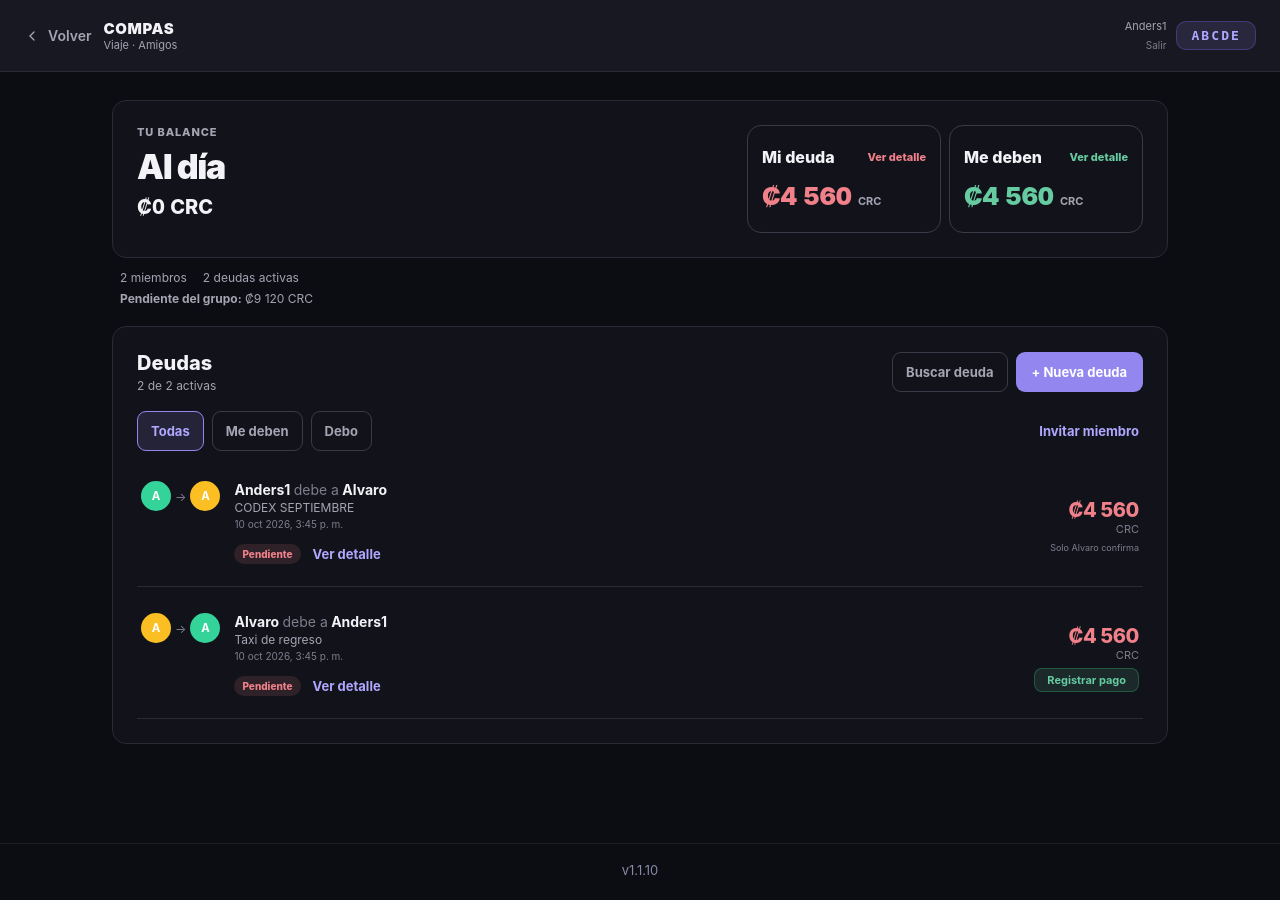
Test: GroupPage debt cards › filters the debt list for the signed-in member
Expected: the text "CODEX SEPTIEMBRE" is shown, [234, 500, 354, 515]
Click the button with aria-label "Filtrar: Me deben". click: (257,431)
box: [212, 411, 303, 451]
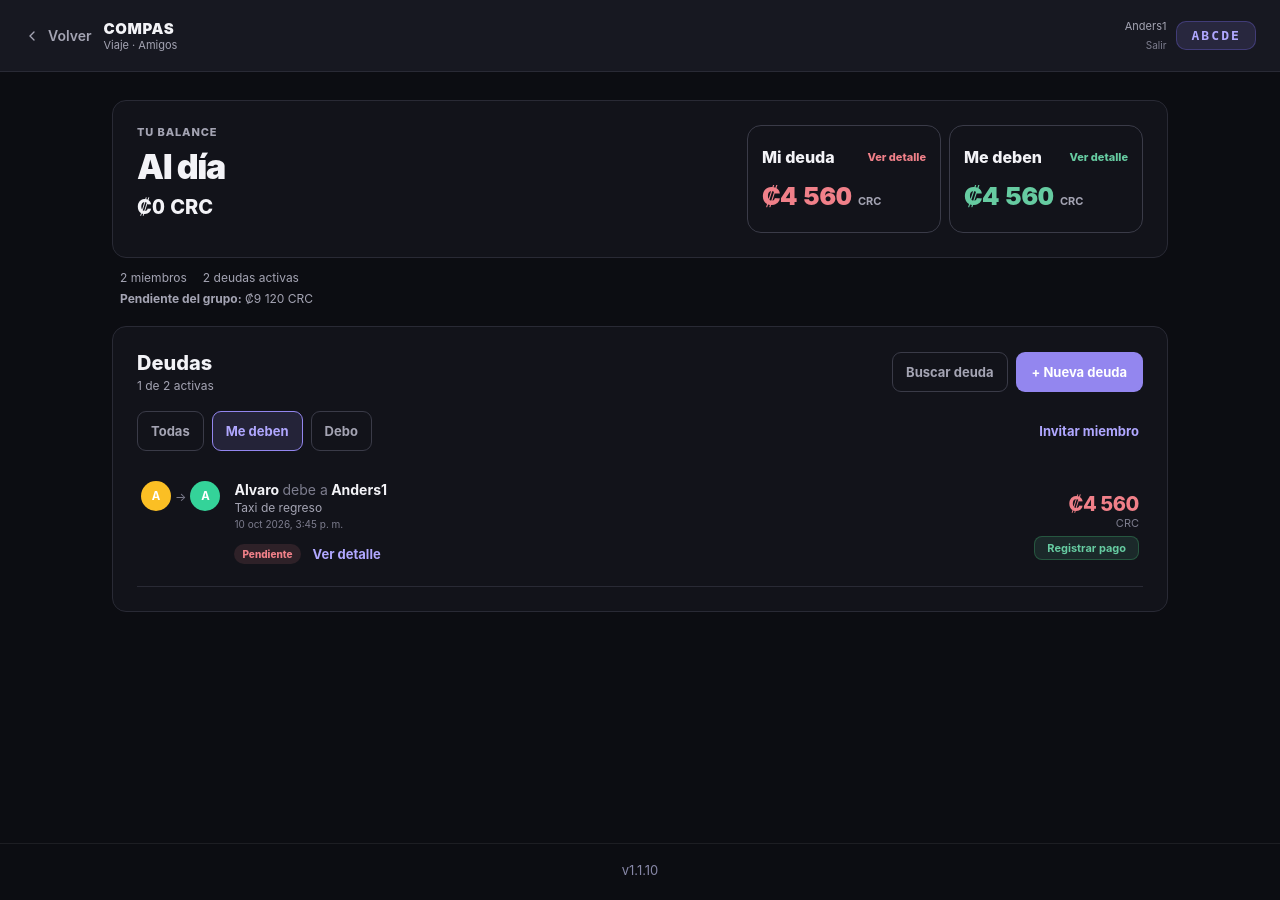
Expected: the text "Taxi de regreso" is shown, [234, 500, 322, 515]
Expected: the text "CODEX SEPTIEMBRE" is gone
Click the button with aria-label "Filtrar: Debo". click: (341,431)
box: [311, 411, 372, 451]
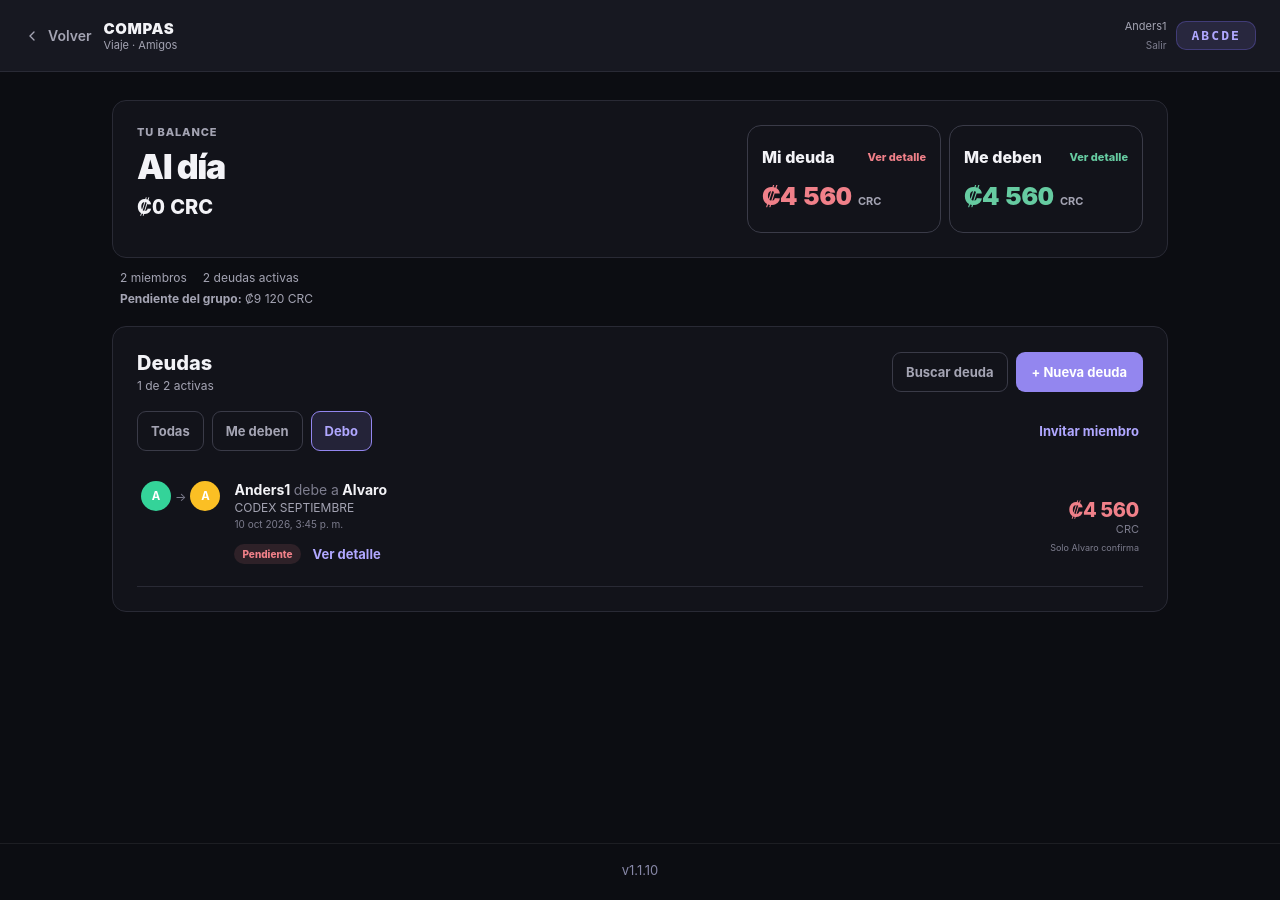
Expected: the text "CODEX SEPTIEMBRE" is shown, [234, 500, 354, 515]
Expected: the text "Taxi de regreso" is gone
